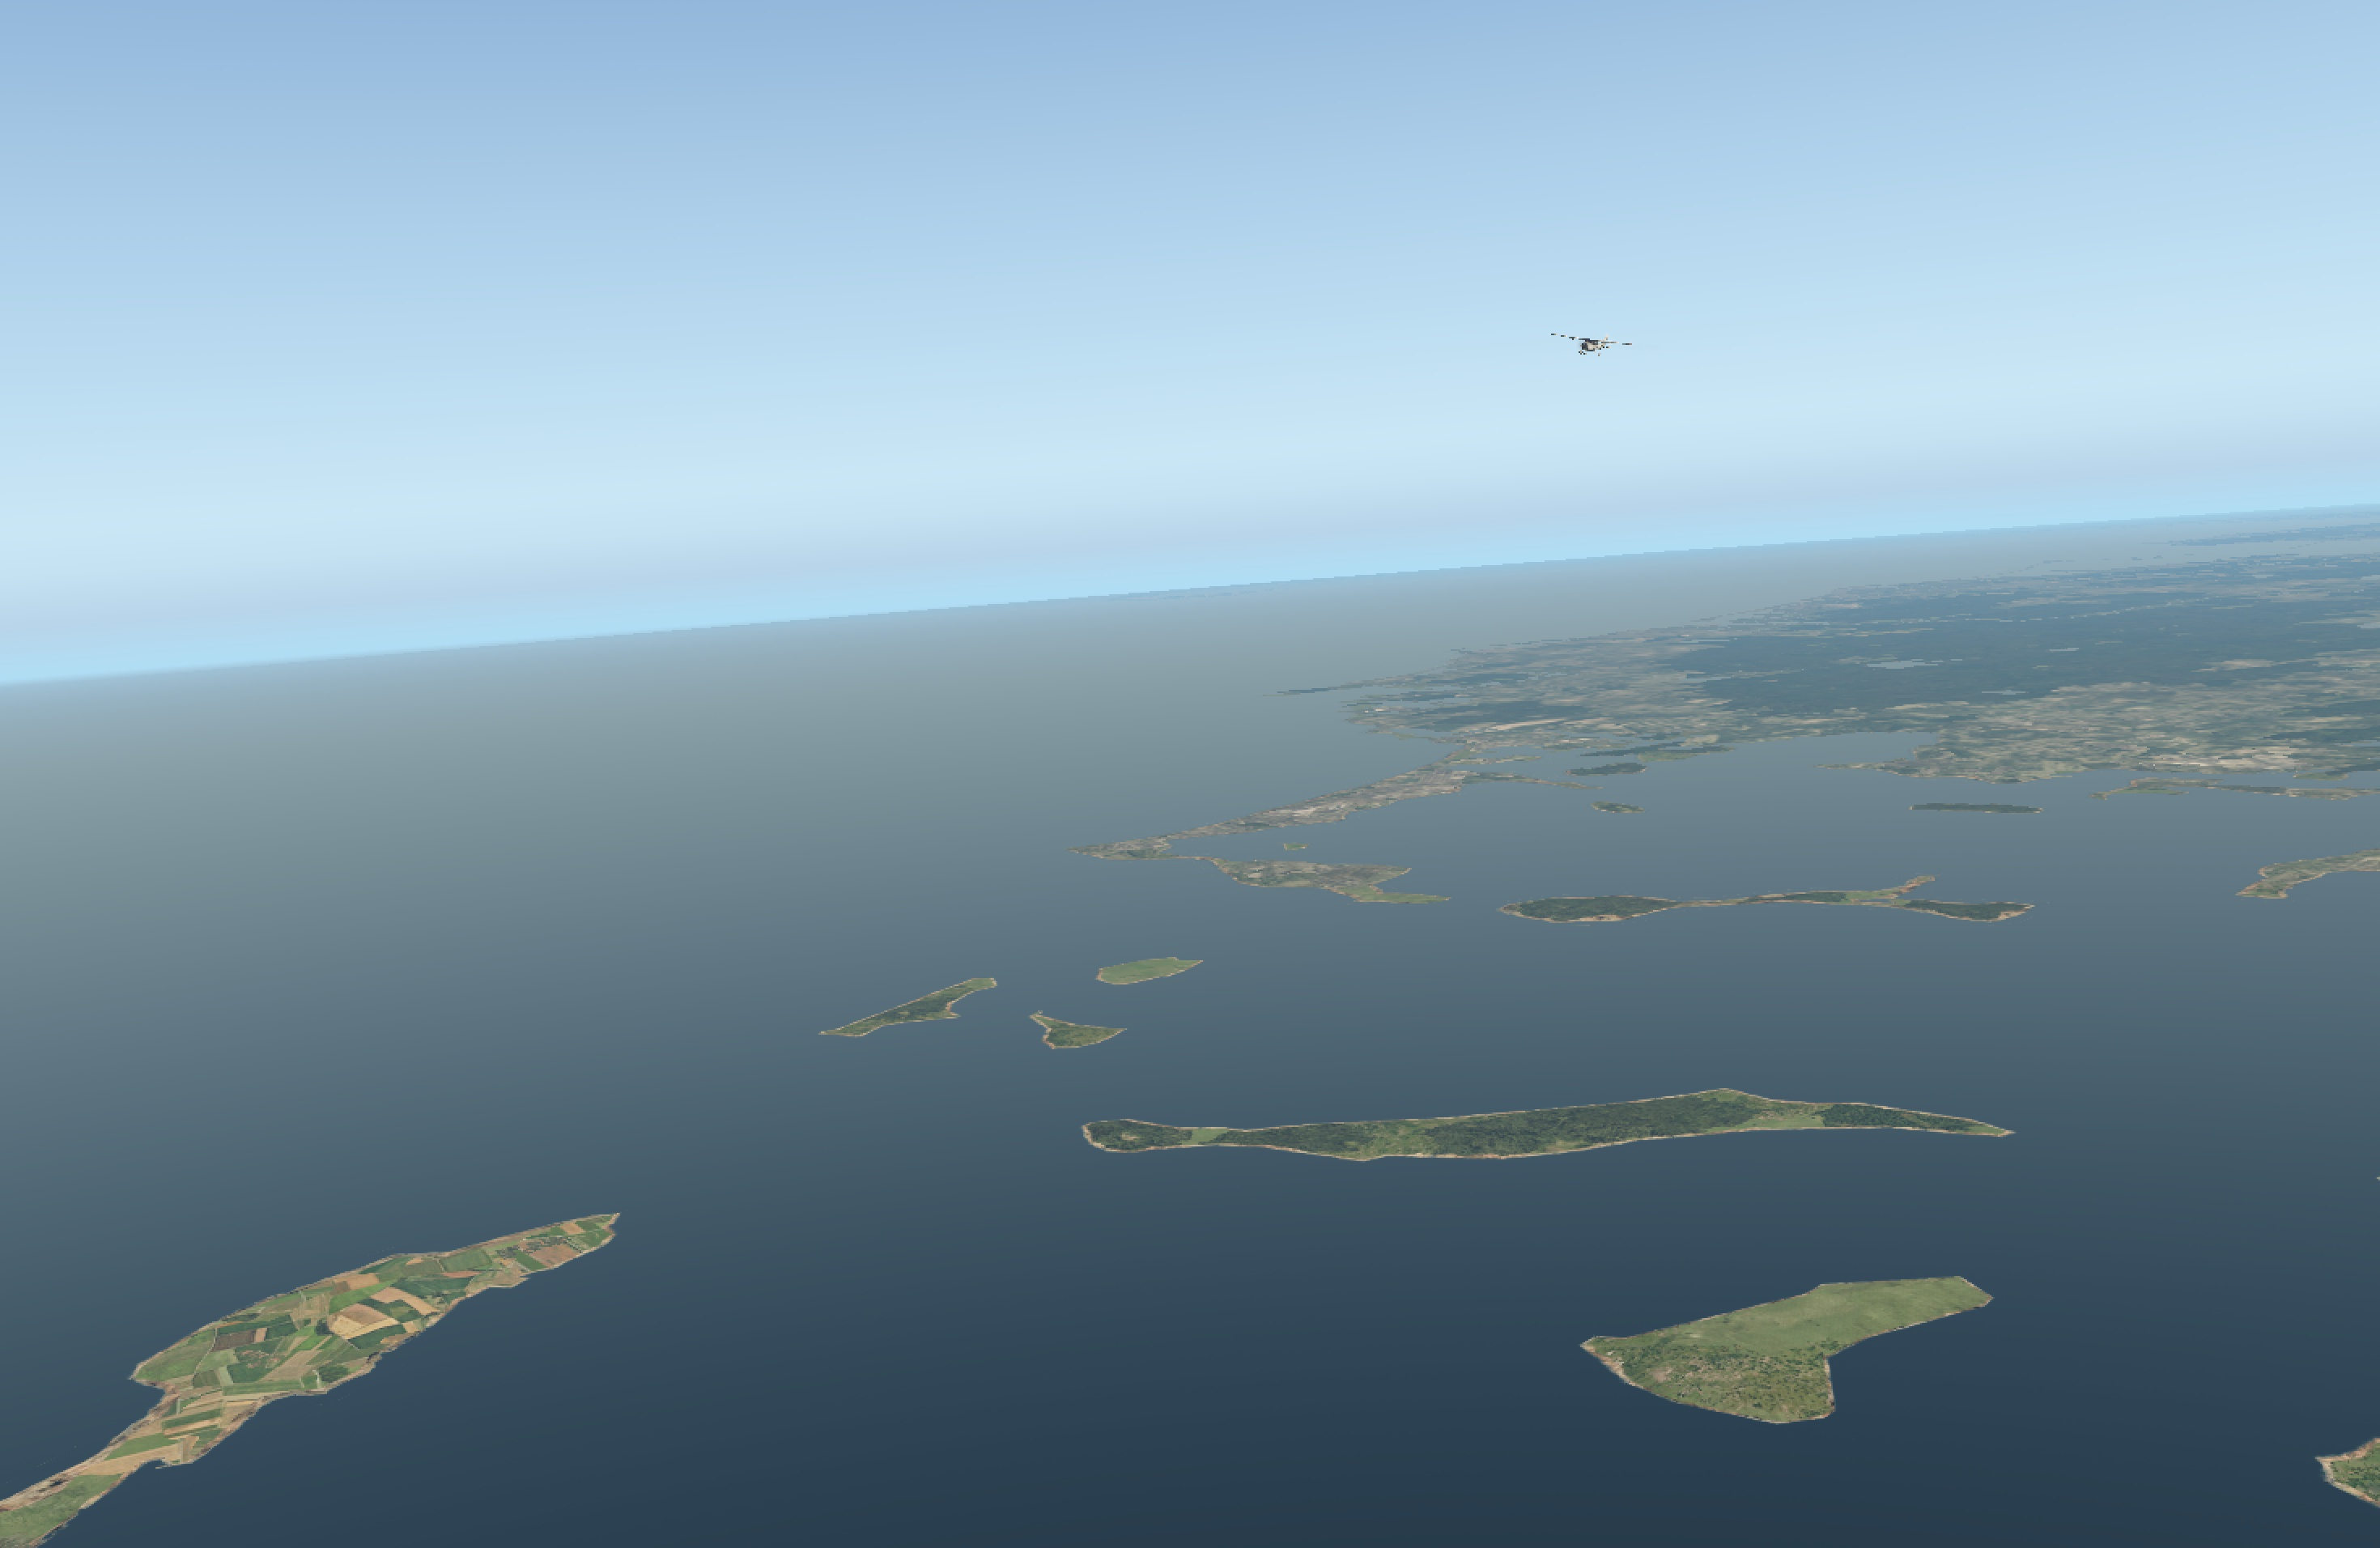aircraft: (1561, 333, 1620, 356)
